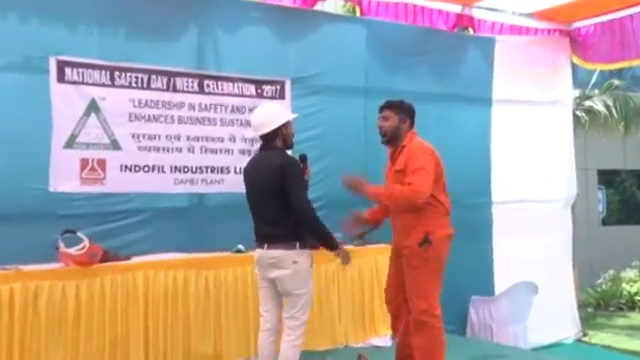helmet: (250, 101, 298, 138)
helmet_off: (374, 99, 417, 144)
helmet_on: (249, 101, 297, 152)
person: (344, 98, 455, 360), (240, 100, 348, 360)
